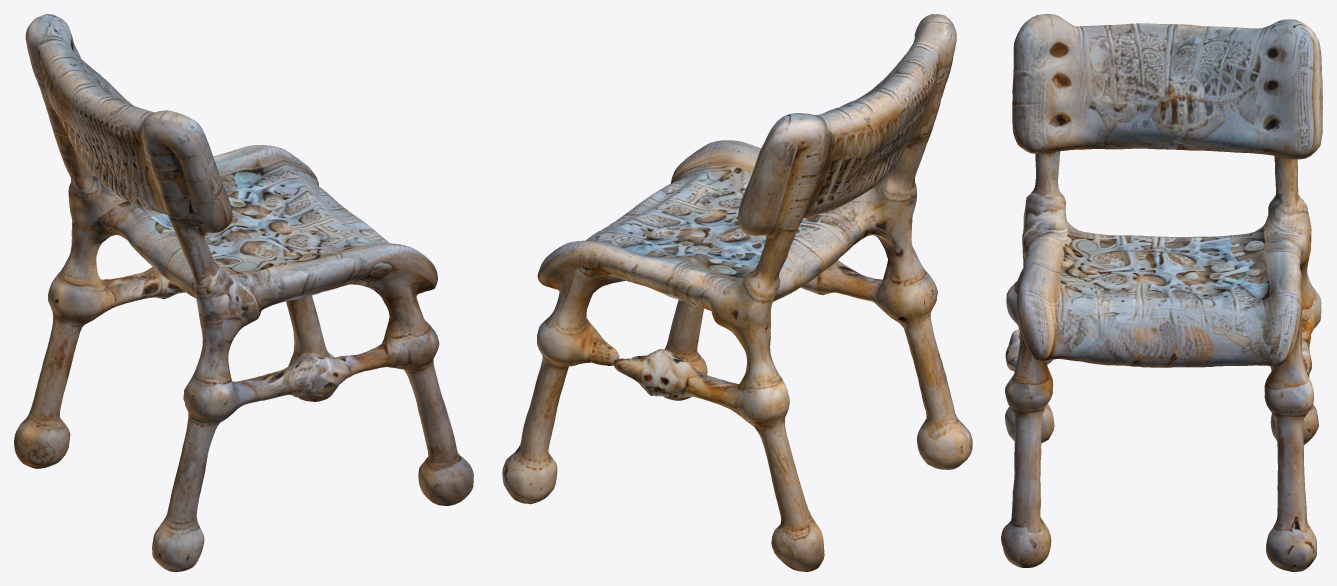
The picture shows the model from 3 angles, left to right: view 1: azimuth 30°, elevation 25°; view 2: azimuth 150°, elevation 25°; view 3: azimuth 270°, elevation 25°; orthographic projection. The views are drawn at different scales.
Parts seen in each view (by area): view 1: Mesh_0; view 2: Mesh_0; view 3: Mesh_0.
Boxes of the visible parts, box(x1,y1,x2,y2) form: Mesh_0: box(14, 14, 473, 571); Mesh_0: box(502, 14, 972, 571); Mesh_0: box(1001, 14, 1322, 571).
Size of the model in its own units: 92.15 by 120 by 81.93.
1 material, 1 textured.
